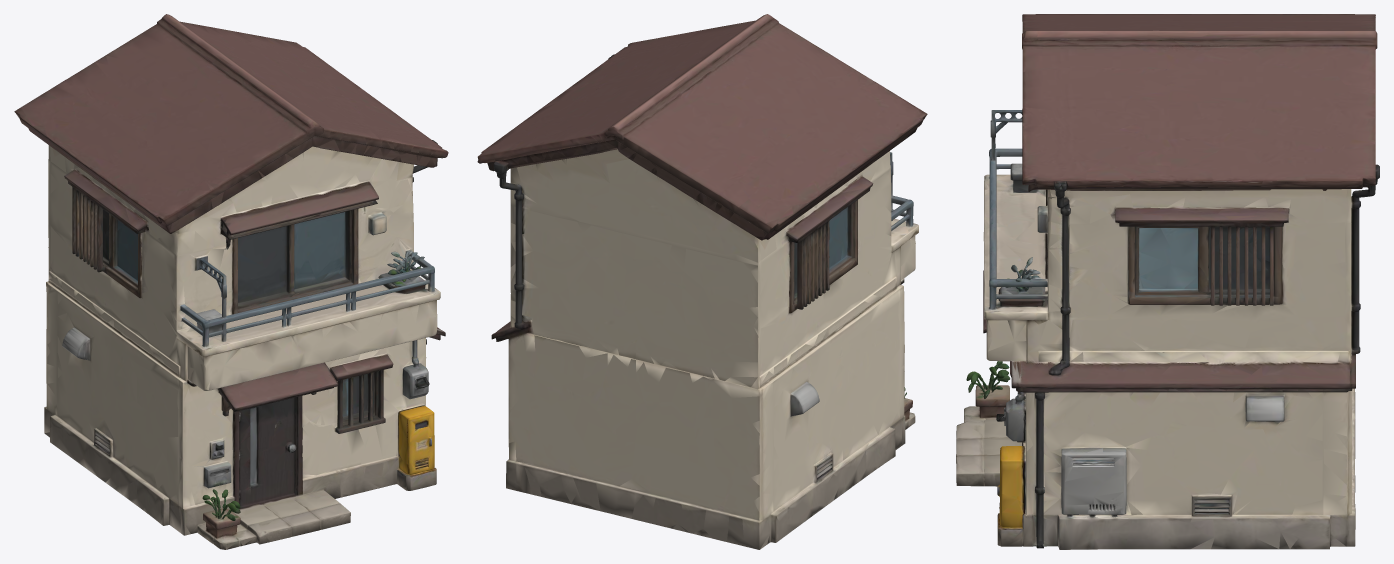
The model's file is building24.glb.
3 renders of one model, left to right at view 1: azimuth 30°, elevation 25°; view 2: azimuth 150°, elevation 25°; view 3: azimuth 270°, elevation 25°, orthographic. The views are drawn at different scales.
Parts seen in each view (by area): view 1: tripo_node_5d831b95-a9a2-4ac4-aafd-e78123e26cd7; view 2: tripo_node_5d831b95-a9a2-4ac4-aafd-e78123e26cd7; view 3: tripo_node_5d831b95-a9a2-4ac4-aafd-e78123e26cd7.
Part boxes in pixels (x1,y1,x2,y2): tripo_node_5d831b95-a9a2-4ac4-aafd-e78123e26cd7: (14, 14, 448, 549); tripo_node_5d831b95-a9a2-4ac4-aafd-e78123e26cd7: (477, 14, 927, 549); tripo_node_5d831b95-a9a2-4ac4-aafd-e78123e26cd7: (956, 14, 1379, 549).
Bounding box in the file's own units: 0.7808 × 0.9807 × 0.8341.
Materials: 1 (1 with a texture image).
